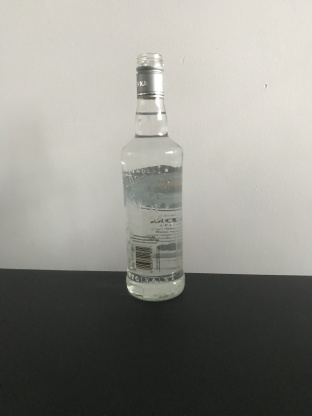nakretka: (134, 52, 166, 100)
